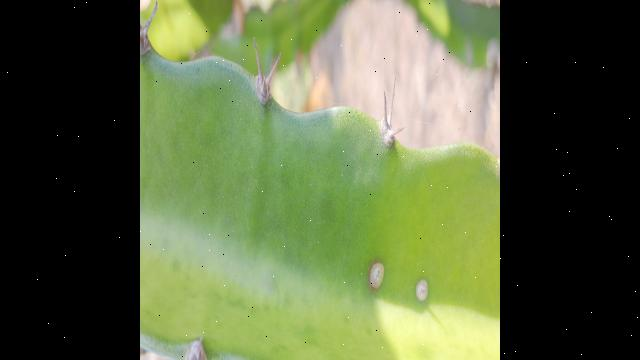stemcanker: (366, 259, 387, 293), (414, 276, 432, 307)
